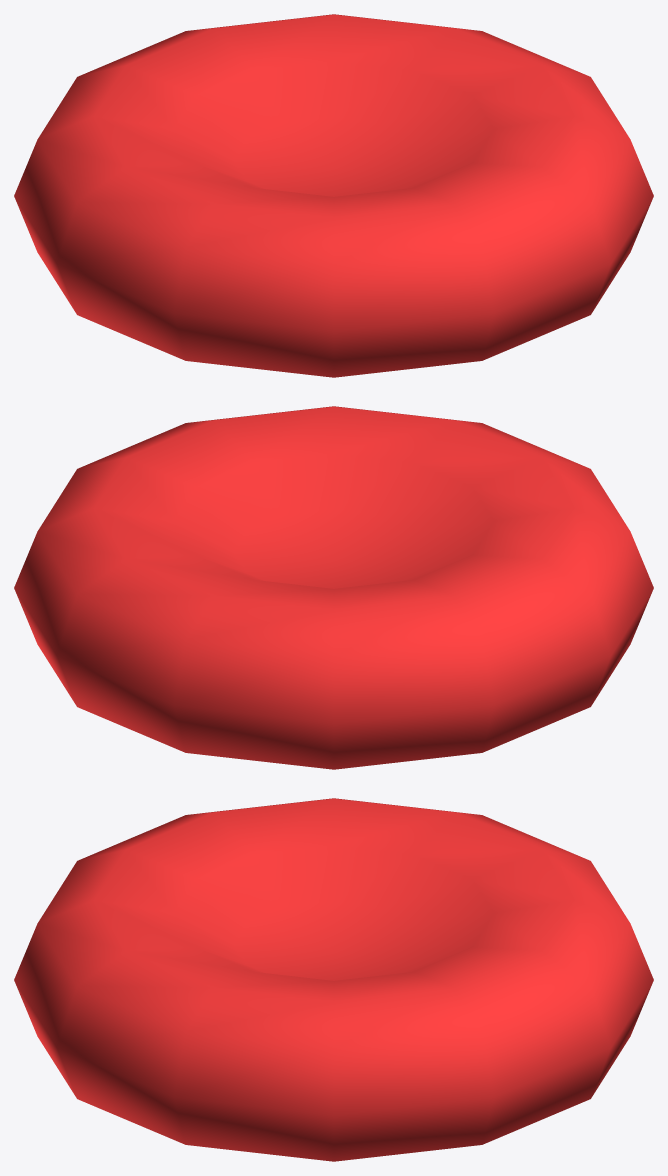
File: BloodCell_MODEL_0825_Low.obj
3 renders of one model, top to bottom at view 1: azimuth 30°, elevation 25°; view 2: azimuth 150°, elevation 25°; view 3: azimuth 270°, elevation 25°, orthographic.
Visible parts, largest first — view 1: Cell_Lo; view 2: Cell_Lo; view 3: Cell_Lo.
Boxes of the visible parts, <box> form: Cell_Lo: <box>14,14,653,377</box>; Cell_Lo: <box>14,406,653,769</box>; Cell_Lo: <box>14,798,653,1161</box>.
Size of the model in its own units: 8 by 2.2 by 8.
